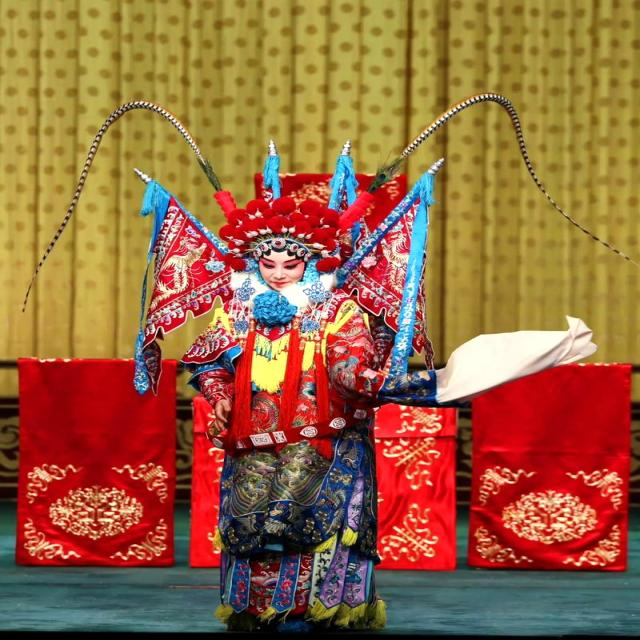Reeves-s Pheasant: (370, 93, 636, 264), (23, 101, 221, 311)
